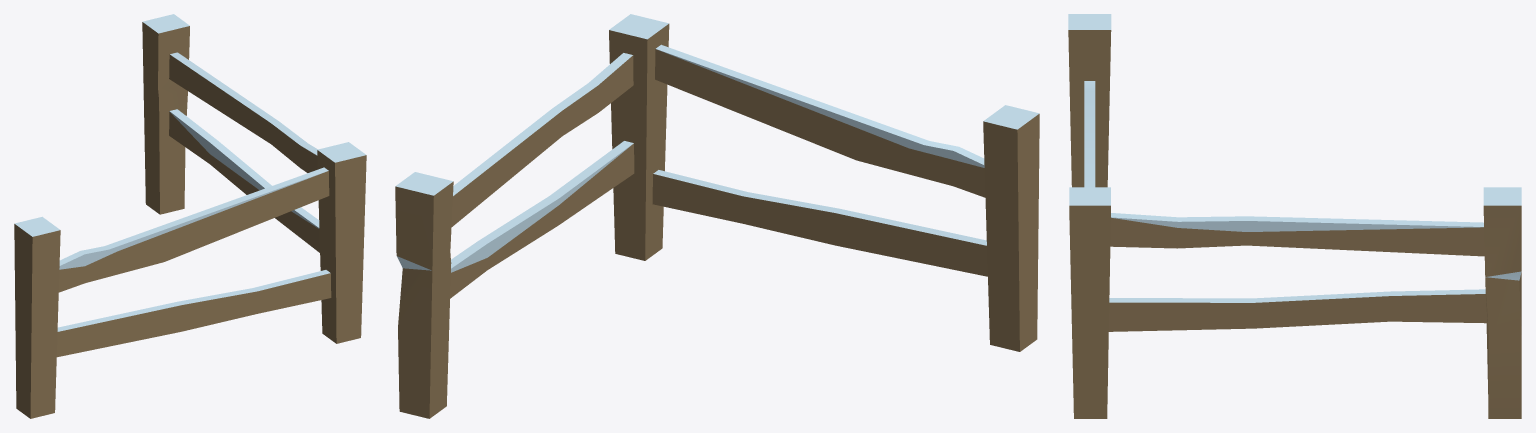
The model's file is model_polytope_snow_fence_corner.fbx.
3 views of the same model, side by side, from view 1: azimuth 30°, elevation 25°; view 2: azimuth 150°, elevation 25°; view 3: azimuth 270°, elevation 25° (orthographic). The views are drawn at different scales.
Parts seen in each view (by area): view 1: model_polytope_snow_fence_corner; view 2: model_polytope_snow_fence_corner; view 3: model_polytope_snow_fence_corner.
Boxes of the visible parts, left/top/right/bottom form: model_polytope_snow_fence_corner: left=14, top=14, right=366, bottom=418; model_polytope_snow_fence_corner: left=395, top=14, right=1039, bottom=418; model_polytope_snow_fence_corner: left=1068, top=14, right=1521, bottom=418.
Size of the model in its own units: 183 by 96.16 by 183.
1 material, 1 textured.
